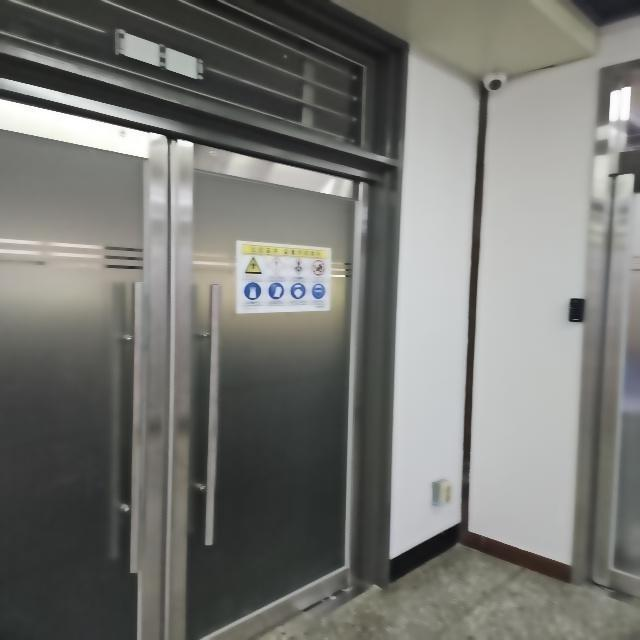door: (172, 145, 364, 638), (0, 93, 163, 640)
